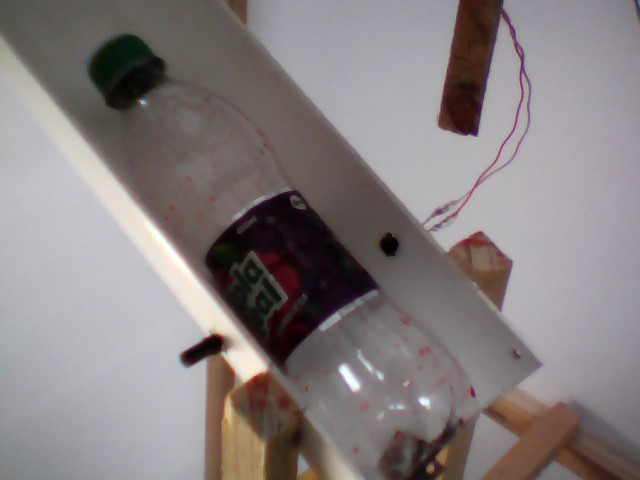plastico: (79, 28, 491, 480)
